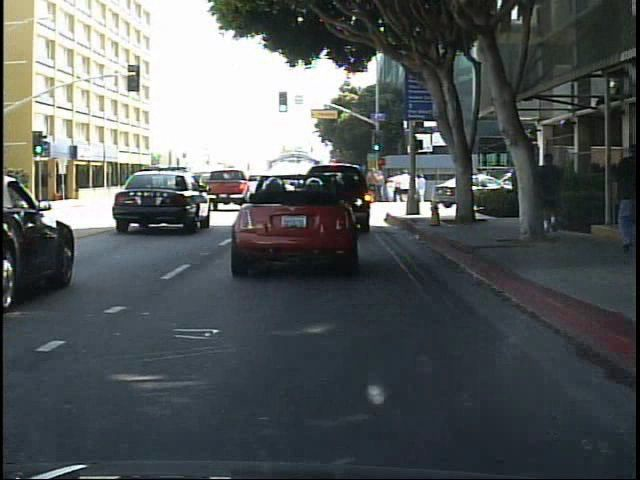person: (605, 141, 636, 260), (541, 147, 571, 237), (127, 175, 146, 202)
